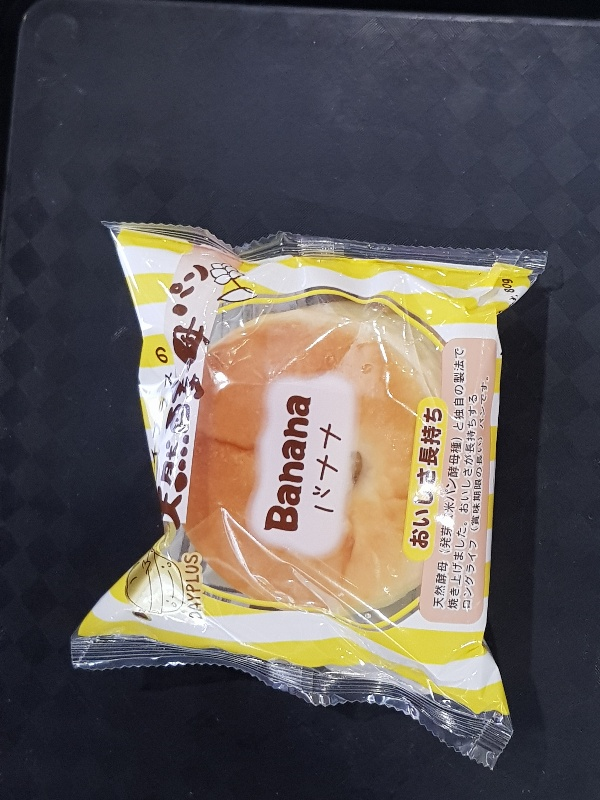Dayplus Banana: (69, 217, 549, 771)
